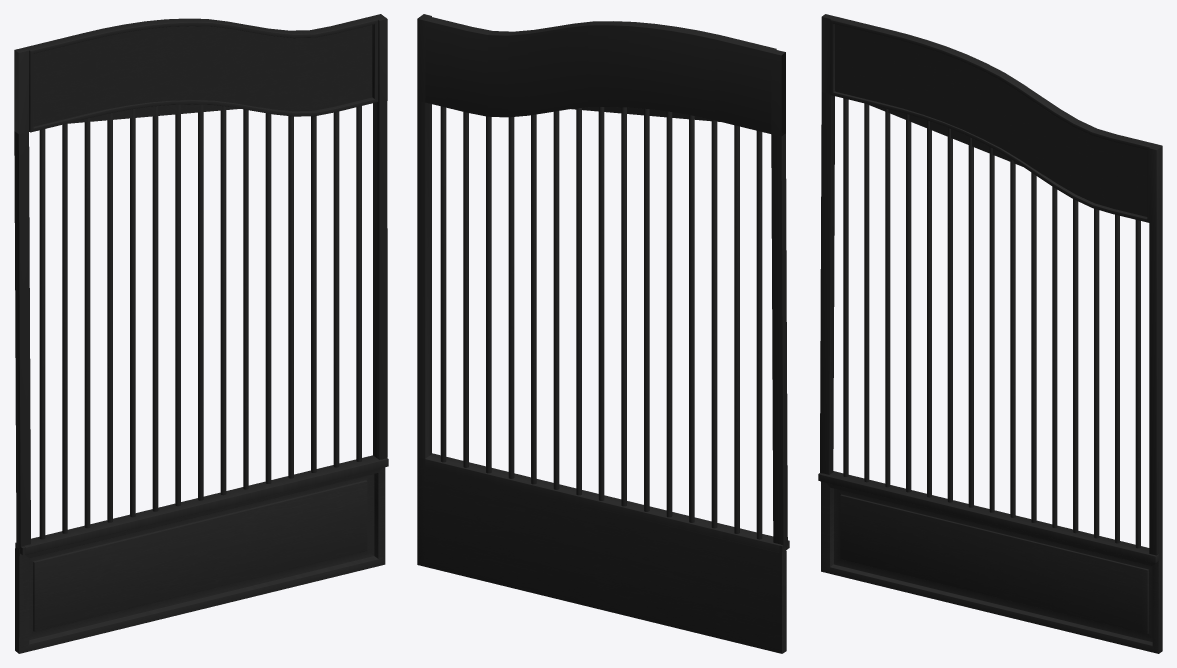
Rendered from Gate OpeningRIGHT.fbx.
The picture shows the model from 3 angles, left to right: view 1: azimuth 30°, elevation 25°; view 2: azimuth 150°, elevation 25°; view 3: azimuth 330°, elevation 25°; orthographic projection. The views are drawn at different scales.
Parts seen in each view (by area): view 1: Cube.001; view 2: Cube.001; view 3: Cube.001.
Boxes of the visible parts, x1,y1,x2,y2 form: Cube.001: (14, 14, 388, 653); Cube.001: (417, 14, 789, 653); Cube.001: (818, 14, 1162, 653).
Size of the model in its own units: 442 by 693 by 18.95.
